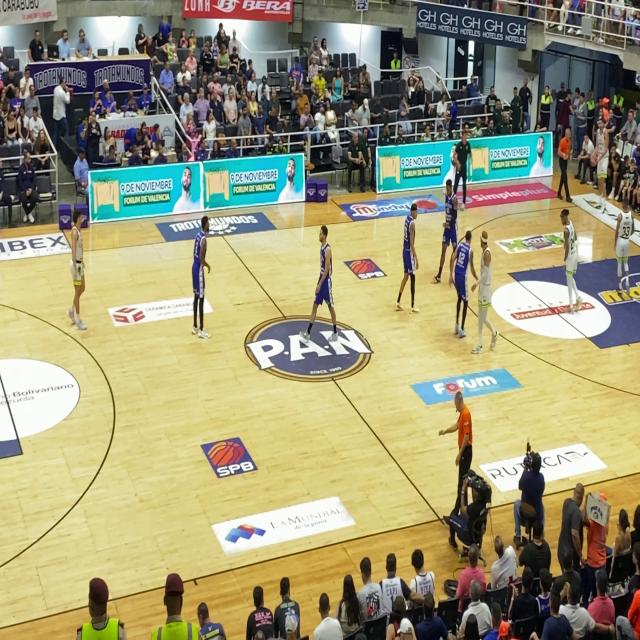referee: (59, 208, 86, 328)
team1: (472, 228, 496, 347)
team2: (306, 217, 341, 357), (185, 210, 214, 338), (396, 192, 424, 307), (449, 225, 476, 340), (440, 171, 463, 273)
